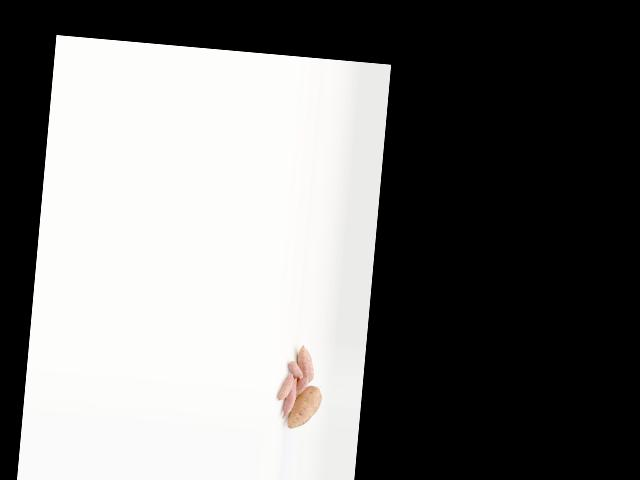sweet_potato: (295, 343, 316, 382)
